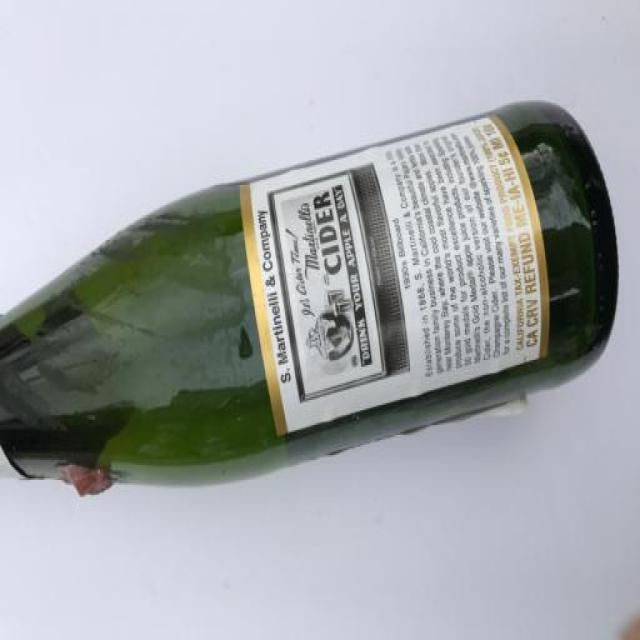Glass: (1, 68, 634, 507)
